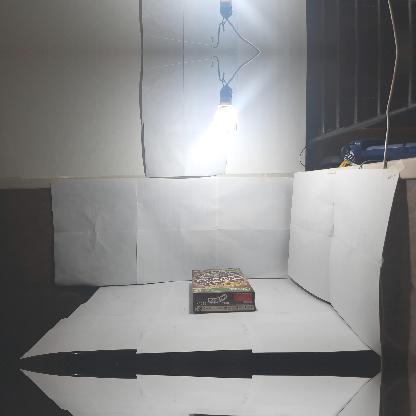Koko-Krunch: (191, 267, 255, 311)
